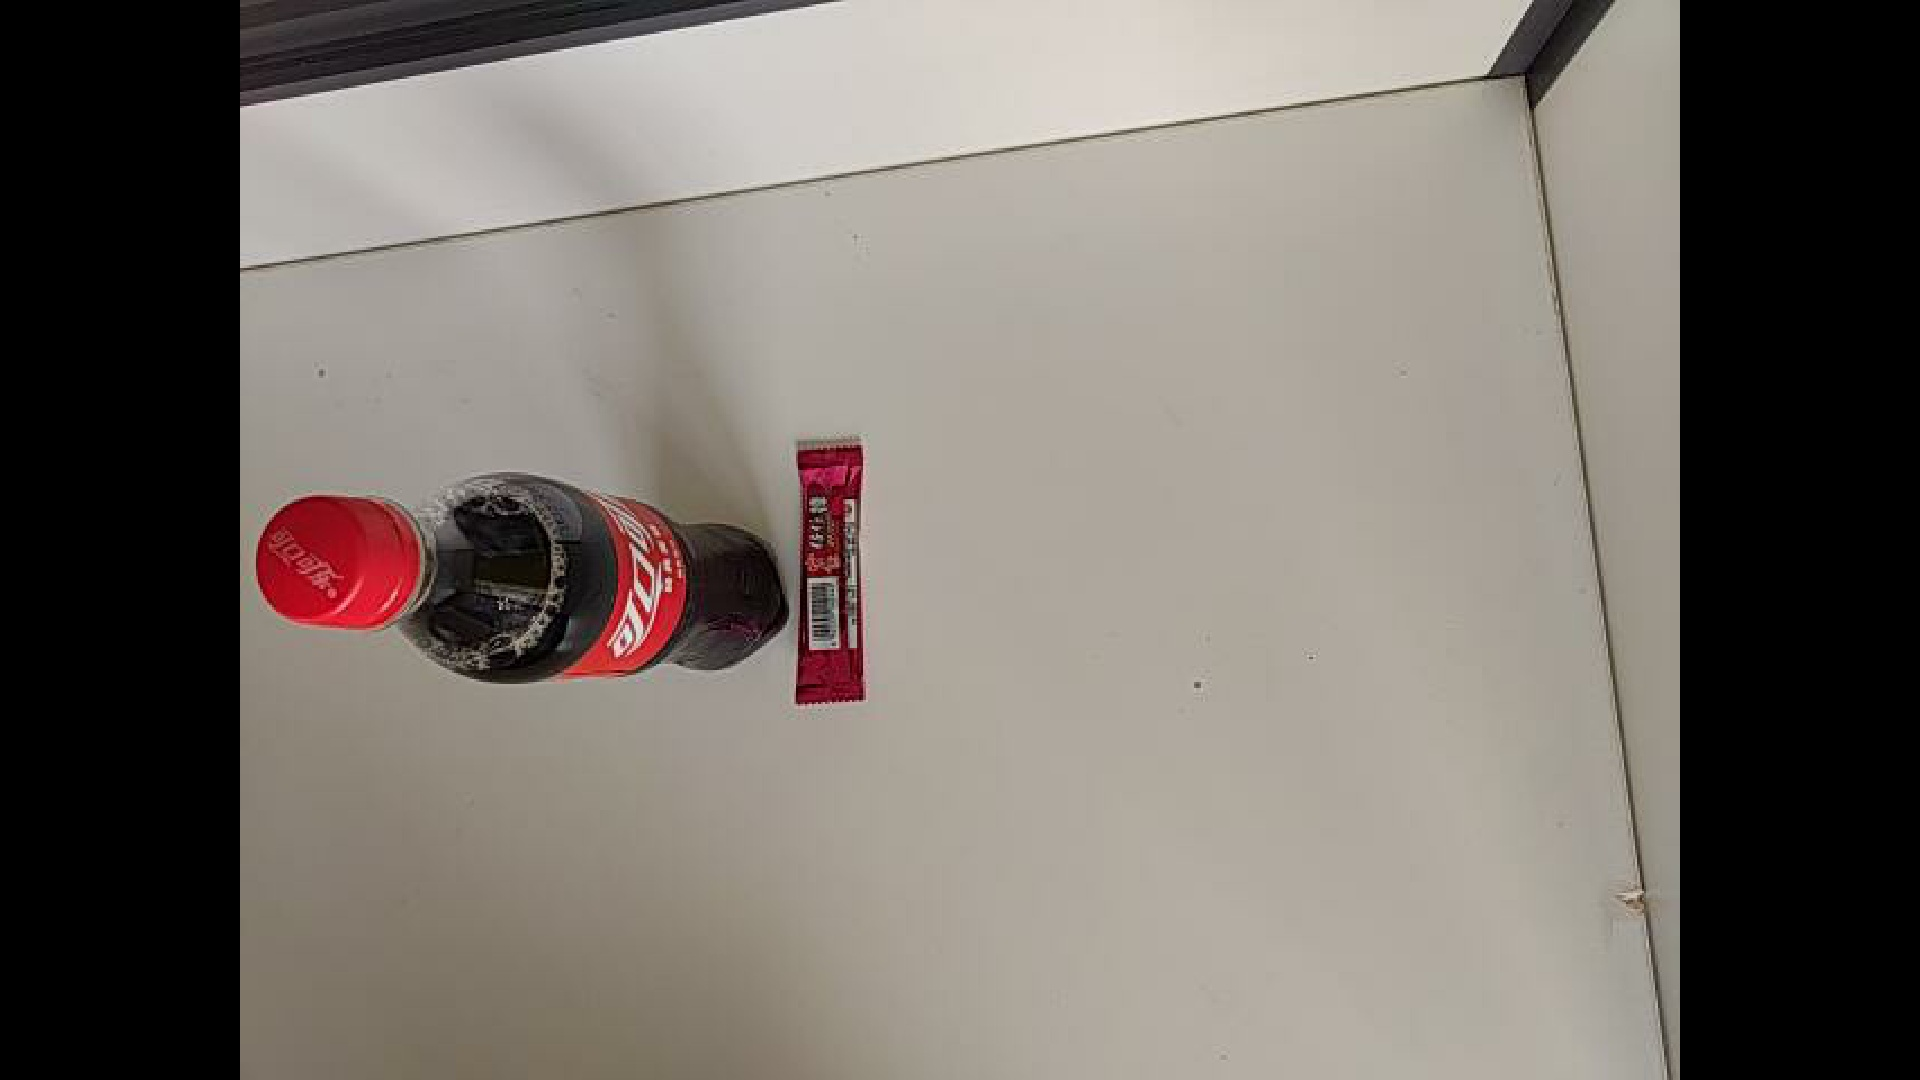cola: (253, 471, 791, 686)
sugar: (793, 446, 866, 708)
